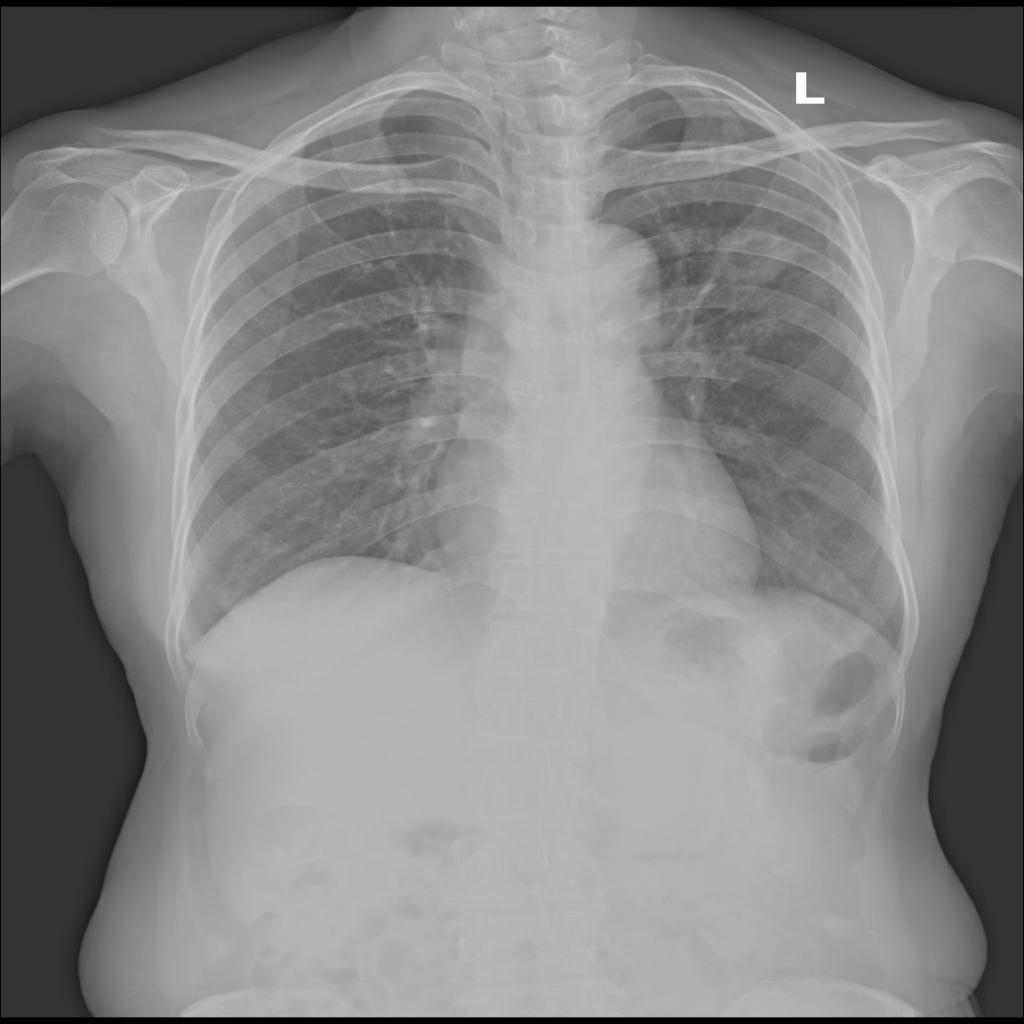Nodule: (708, 226, 795, 287)
